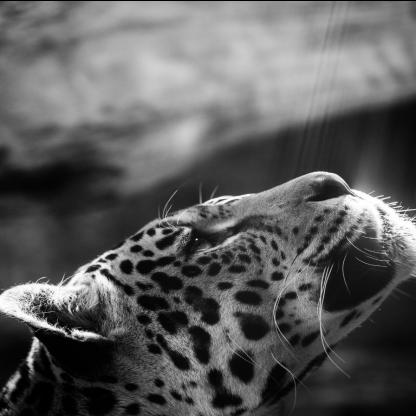leopard: (0, 165, 415, 397)
